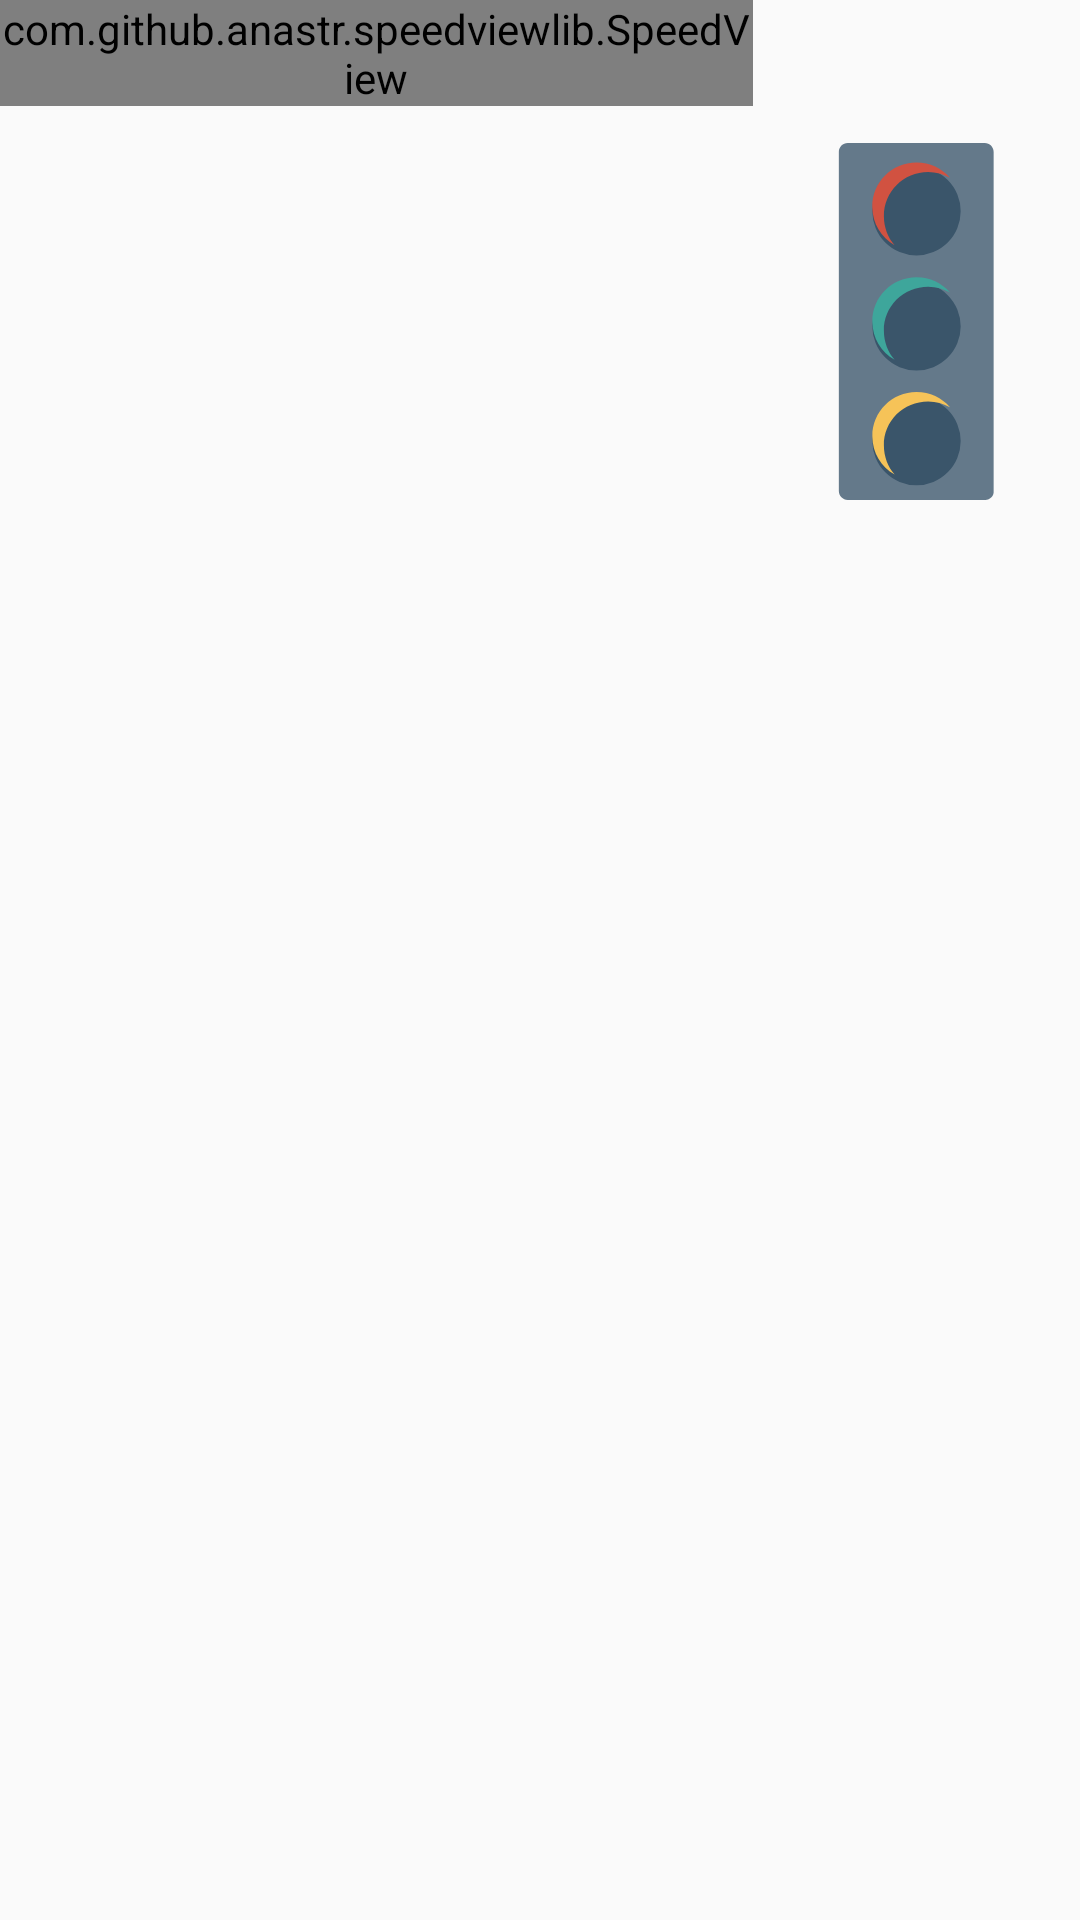

Icon click points for this 1080px×1920px phone screenshot, format (x=x, y=y):
traffic: (x=916, y=321)
